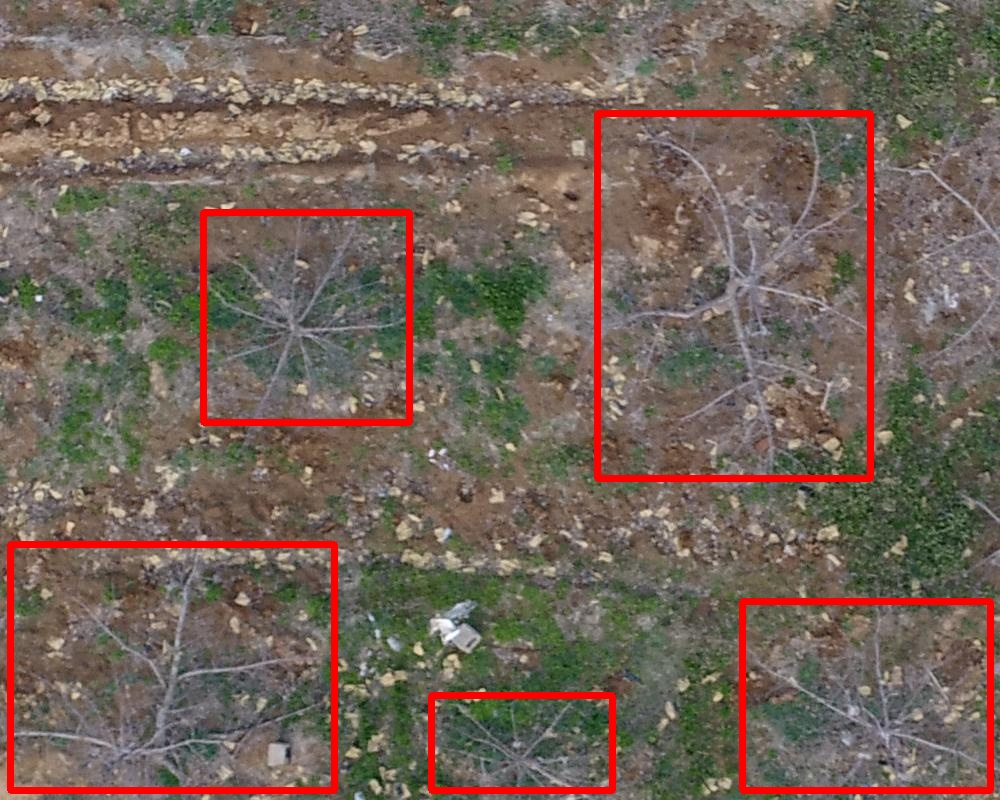apple: (597, 113, 870, 478), (10, 544, 334, 790), (742, 601, 990, 790), (203, 212, 409, 422), (431, 695, 612, 790)
